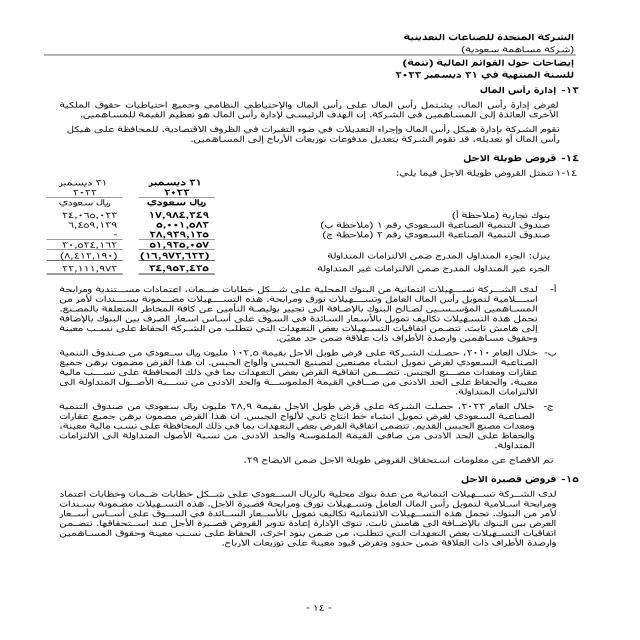notes: (380, 58, 572, 70)
table: (30, 166, 240, 280)
